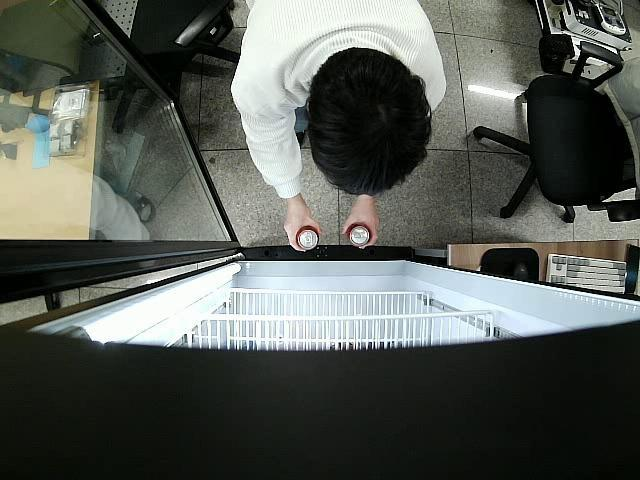11_cocaColaZero: (294, 226, 320, 249), (346, 223, 372, 246)
